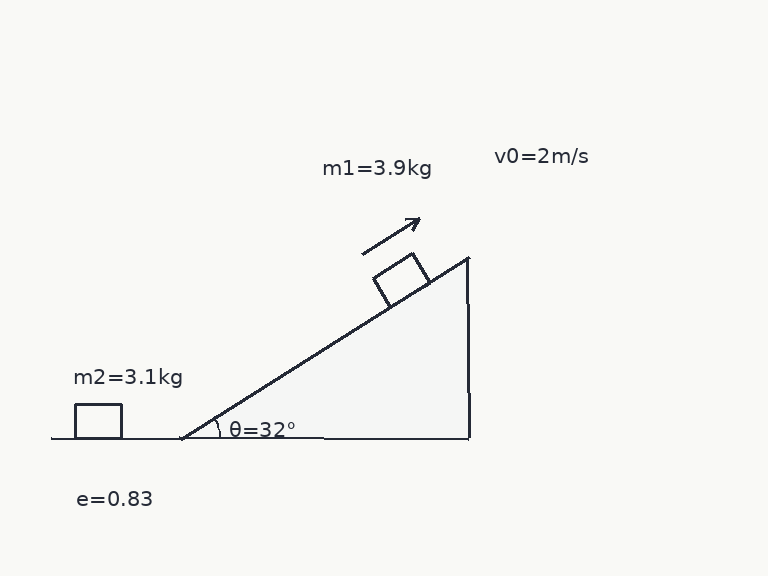block: (370, 251, 432, 309), (73, 402, 123, 440)
ramp: (178, 256, 470, 440)
